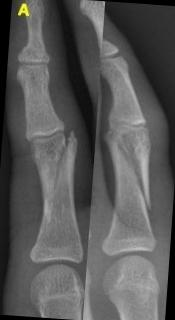fracture: (39, 125, 75, 229), (112, 130, 156, 214)
